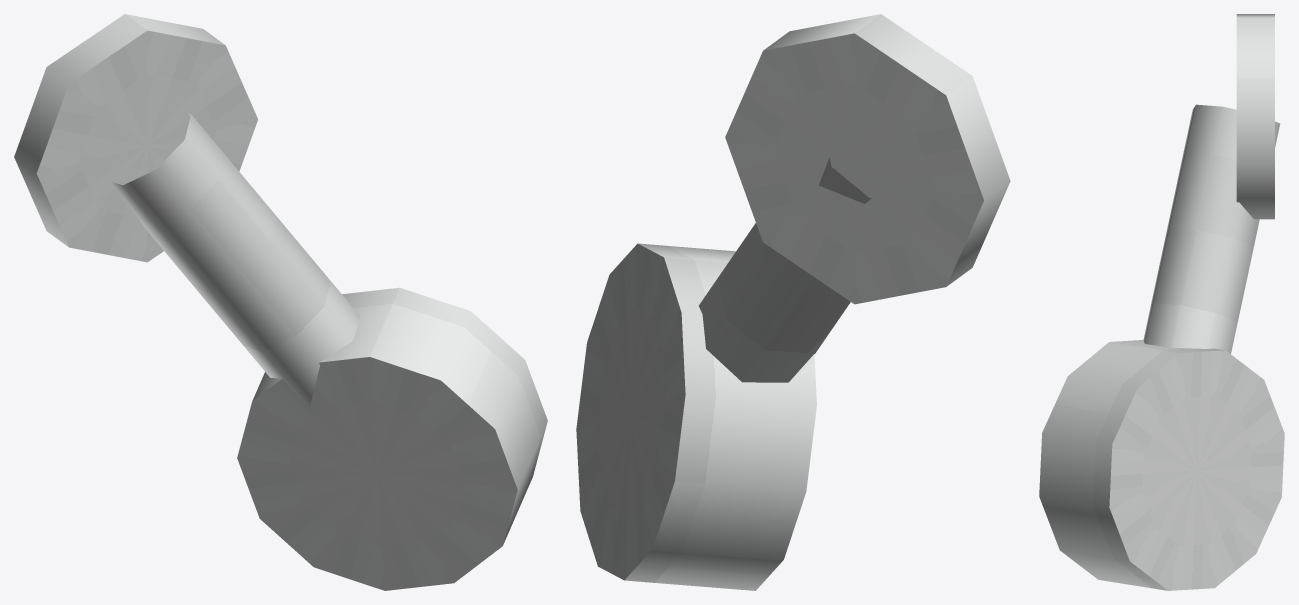
File: nycsignalarm_stub_208.obj
The picture shows the model from 3 angles, left to right: view 1: azimuth 30°, elevation 25°; view 2: azimuth 150°, elevation 25°; view 3: azimuth 270°, elevation 25°; orthographic projection. The views are drawn at different scales.
Parts seen in each view (by area): view 1: nycsignalarm_stub_208; view 2: nycsignalarm_stub_208; view 3: nycsignalarm_stub_208.
Part boxes in pixels (<box>): nycsignalarm_stub_208: <box>14,14,547,590</box>; nycsignalarm_stub_208: <box>576,14,1010,590</box>; nycsignalarm_stub_208: <box>1039,14,1284,590</box>.
Bounding box in the file's own units: 0.6899 × 0.854 × 0.3936.
